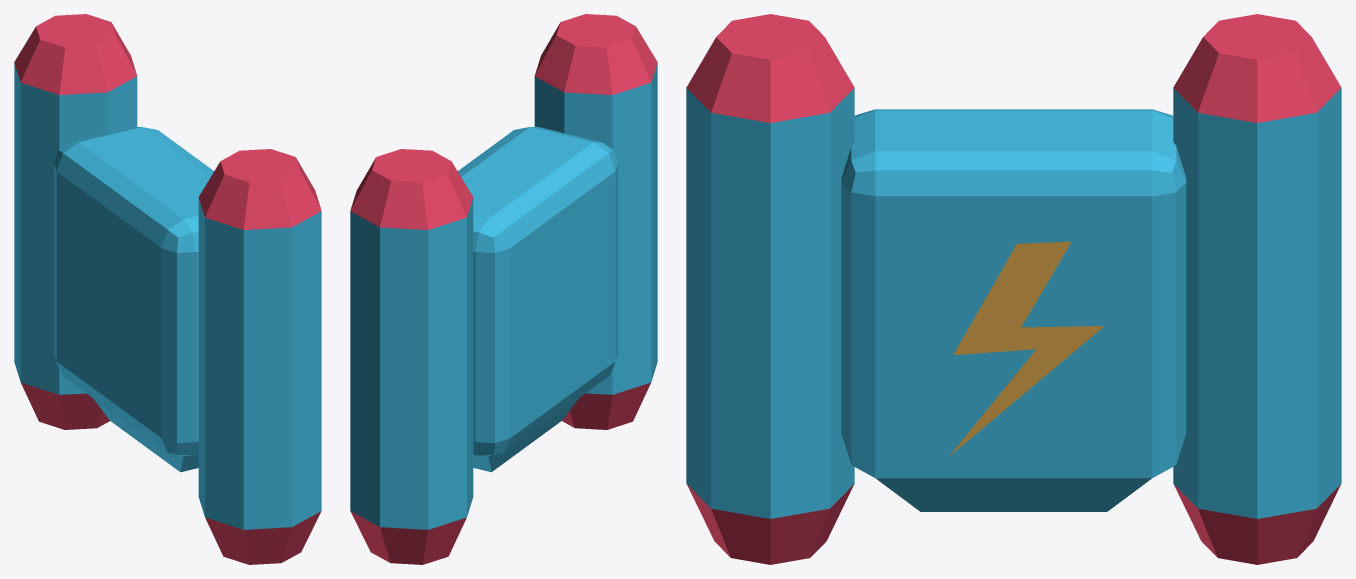
File: JatPack2.fbx
The picture shows the model from 3 angles, left to right: view 1: azimuth 30°, elevation 25°; view 2: azimuth 150°, elevation 25°; view 3: azimuth 270°, elevation 25°; orthographic projection. The views are drawn at different scales.
Parts seen in each view (by area): view 1: Cube; view 2: Cube; view 3: Cube.
Part boxes in pixels (left/top/right/bottom): Cube: left=14, top=14, right=321, bottom=564; Cube: left=350, top=14, right=657, bottom=564; Cube: left=686, top=14, right=1341, bottom=564.
Size of the model in its own units: 29.05 by 92.8 by 109.
